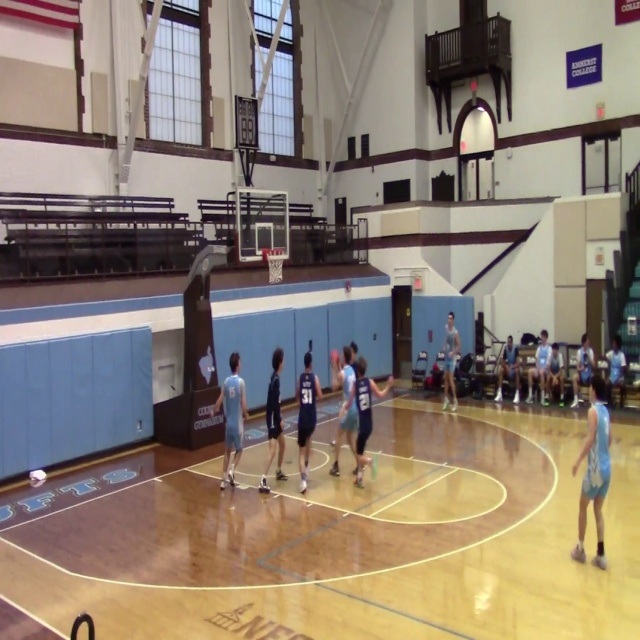Basketball: (29, 469, 47, 488), (330, 350, 339, 363)
